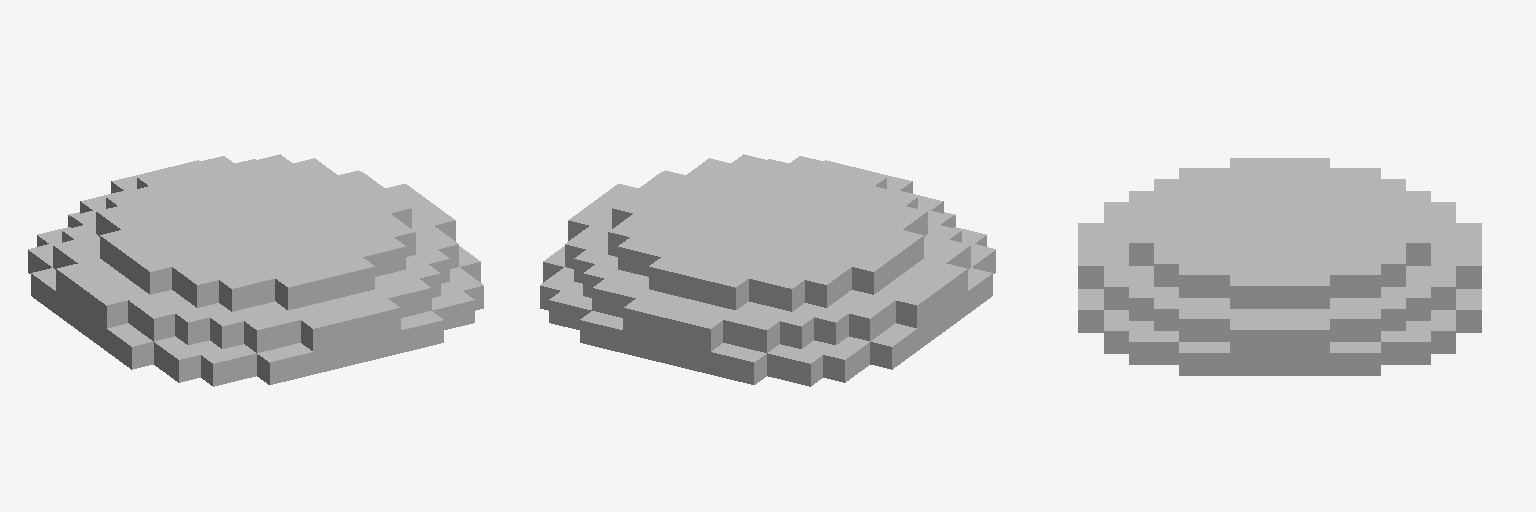
The model's file is Button Unpressed.obj.
3 views of the same model, side by side, from view 1: azimuth 30°, elevation 25°; view 2: azimuth 150°, elevation 25°; view 3: azimuth 270°, elevation 25° (orthographic).
Visible parts, largest first — view 1: object 1; view 2: object 1; view 3: object 1.
Part boxes in pixels (x1,y1,x2,y2): object 1: (28,154,483,386); object 1: (540,154,995,386); object 1: (1078,158,1481,375).
Bounding box in the file's own units: 1.6 × 0.3 × 1.6.